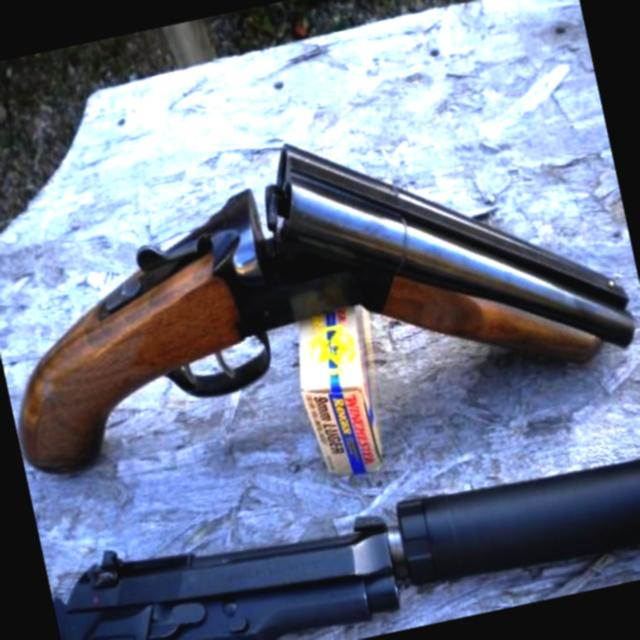shotgun: (0, 78, 640, 494)
